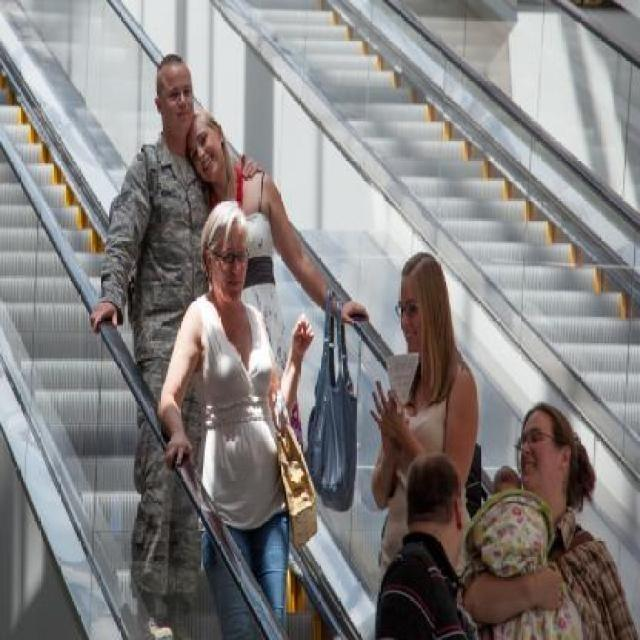stair: (0, 72, 340, 640), (240, 0, 640, 446)
